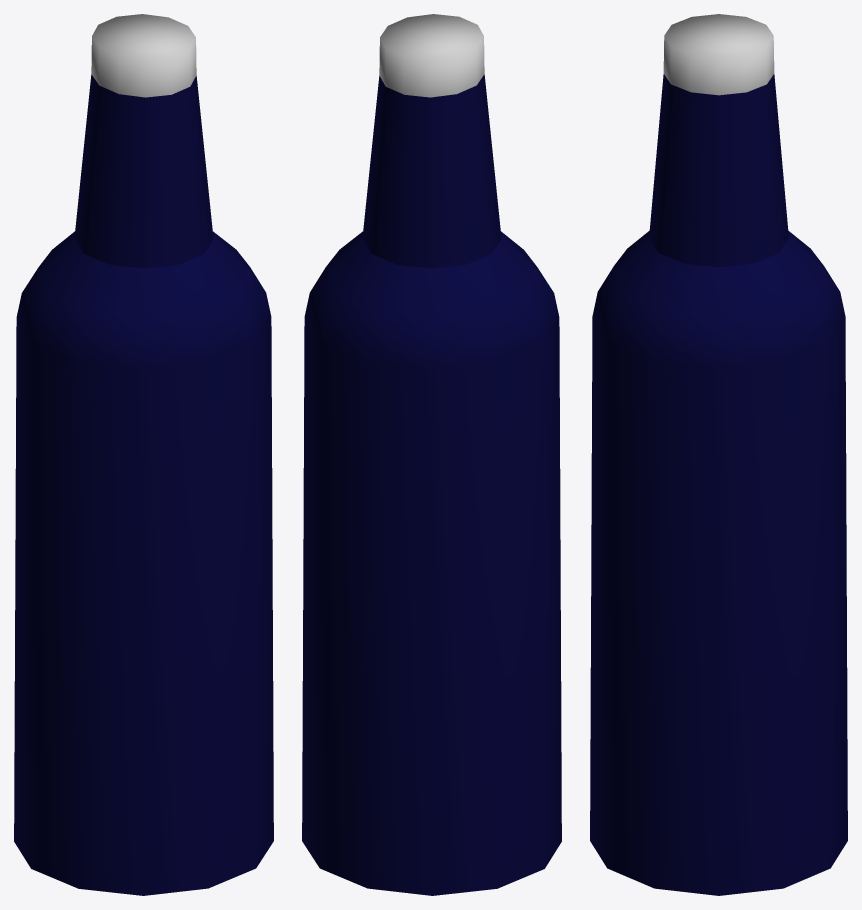
Rendered from botellaCristalAzul.fbx.
3 renders of one model, left to right at view 1: azimuth 30°, elevation 25°; view 2: azimuth 150°, elevation 25°; view 3: azimuth 270°, elevation 25°, orthographic.
Visible parts, largest first — view 1: Object003; view 2: Object003; view 3: Object003.
Boxes of the visible parts, x1,y1,x2,y2 form: Object003: (14,14,273,895); Object003: (302,14,561,895); Object003: (590,14,847,895).
Bounding box in the file's own units: 6.62 × 22.57 × 6.55.
